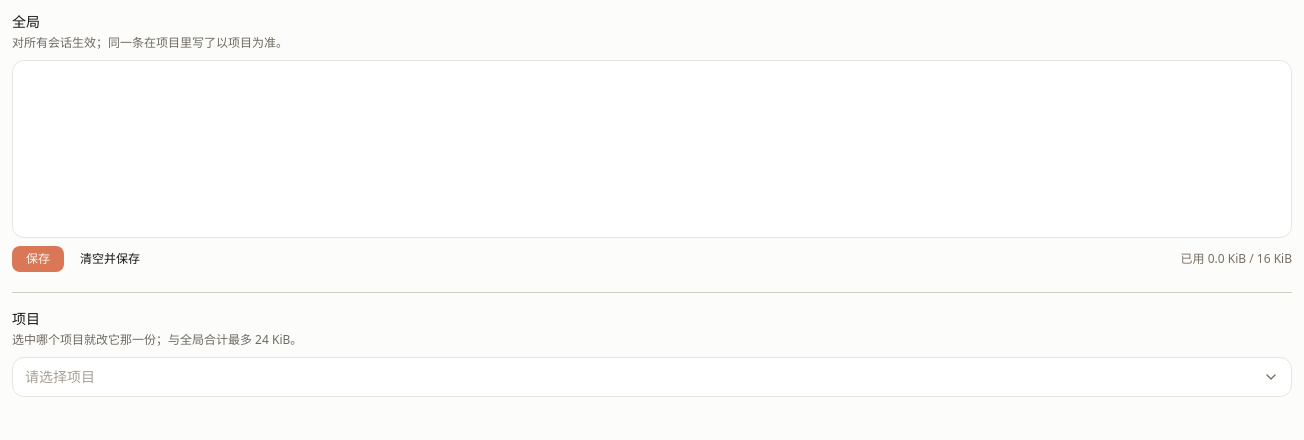
Test: 记忆指令（「记忆」栏里的第三块） › 012：保存进行中输入框与按钮都锁着（写下去的就是点保存那一刻看到的内容）
Type "落盘中" into the text box named "全局记忆指令". click: (652, 149)
box: [12,60,1292,238]
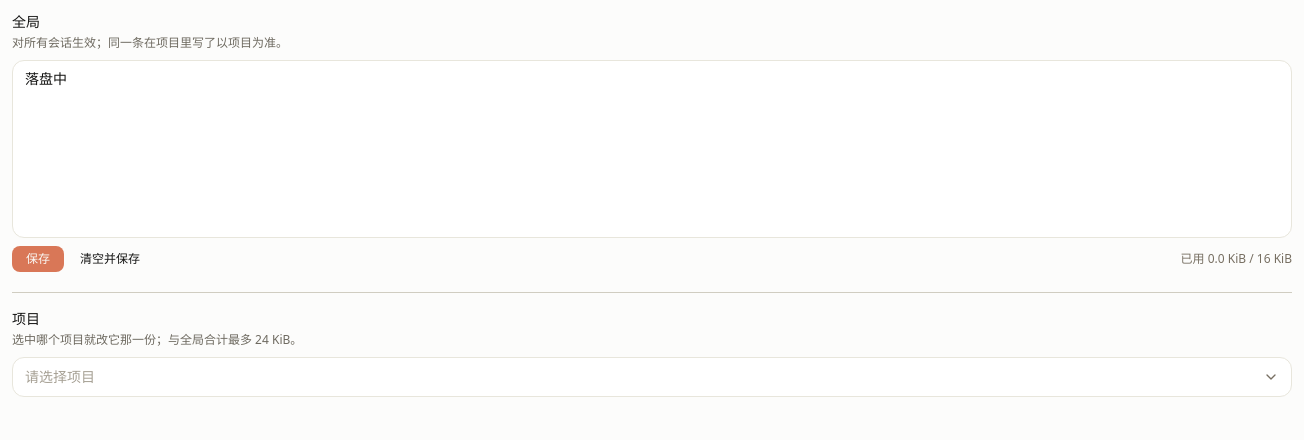
Click the button "保存". click: (38, 259)
box: [12,246,64,272]
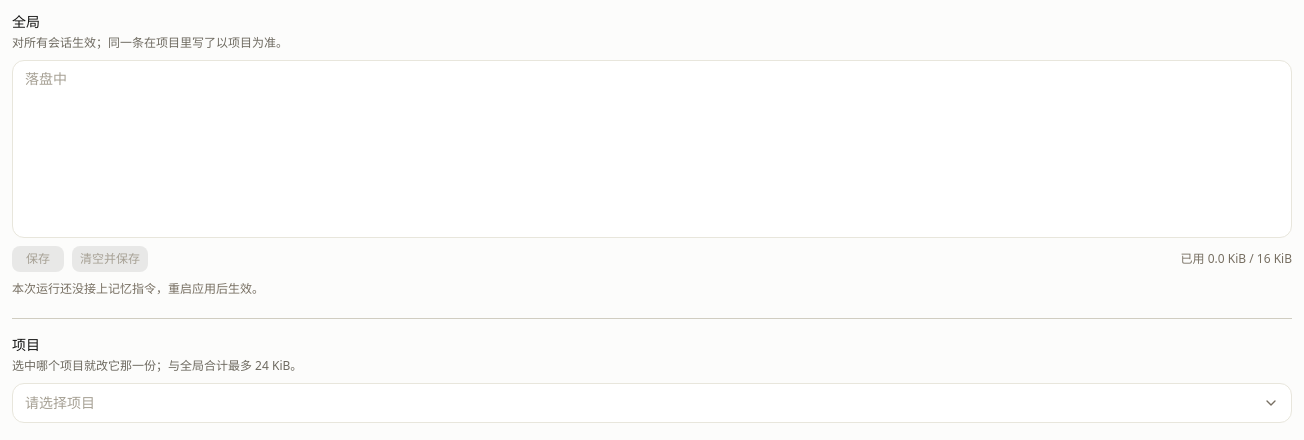
Result: the text box named "全局记忆指令" is disabled at [12,60,1292,238]
Result: the button "保存" is disabled at [12,246,64,272]
Result: the button "清空并保存" is disabled at [72,246,148,272]
